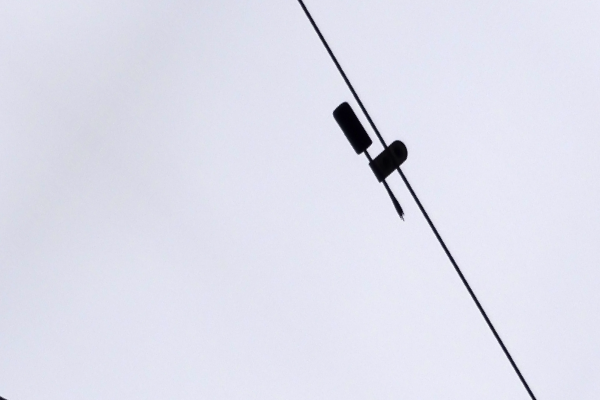damper_defect: (332, 99, 407, 222)
